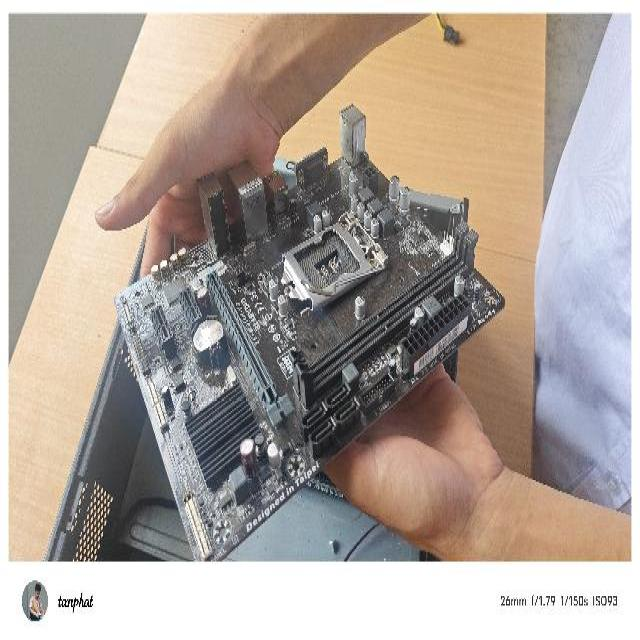Mainboard: (110, 90, 512, 563)
